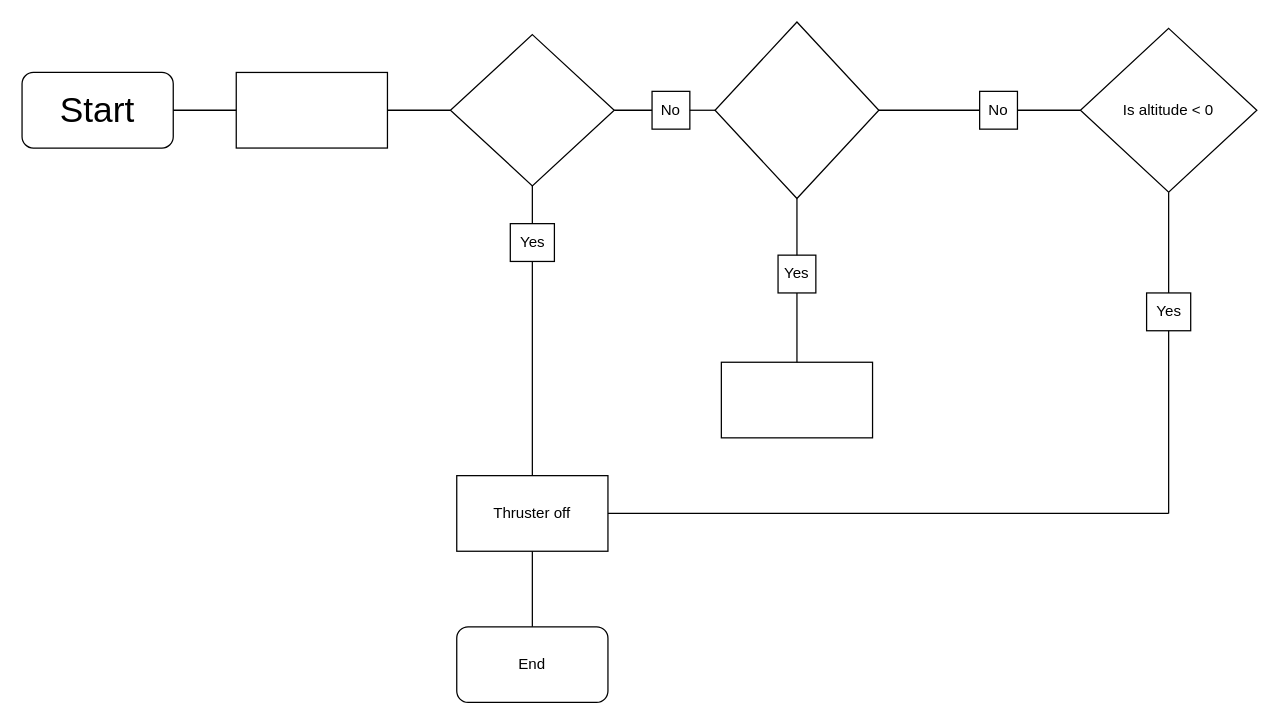
This 1279x725 diagram has some shape labels left out. The box of each missing label's shape, as (x1, y1, x2, y2) in pixels:
Is altitude > 0 Is altitude <= 100: (714, 21, 879, 198)
Is altitude > 100: (449, 33, 614, 186)
Read altitude: (235, 71, 387, 148)
Thruster on: (720, 361, 873, 438)
